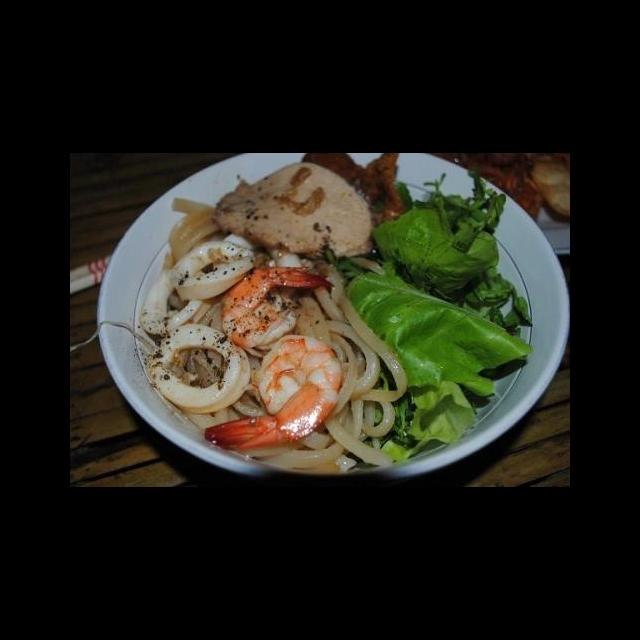banh da: (297, 154, 407, 228)
mi: (285, 257, 411, 477), (167, 343, 272, 436), (159, 194, 227, 273)
muc: (147, 321, 254, 415), (136, 265, 222, 339), (168, 237, 259, 304)
thit heo: (208, 160, 380, 262)
tom: (201, 333, 345, 451), (219, 262, 337, 352)
